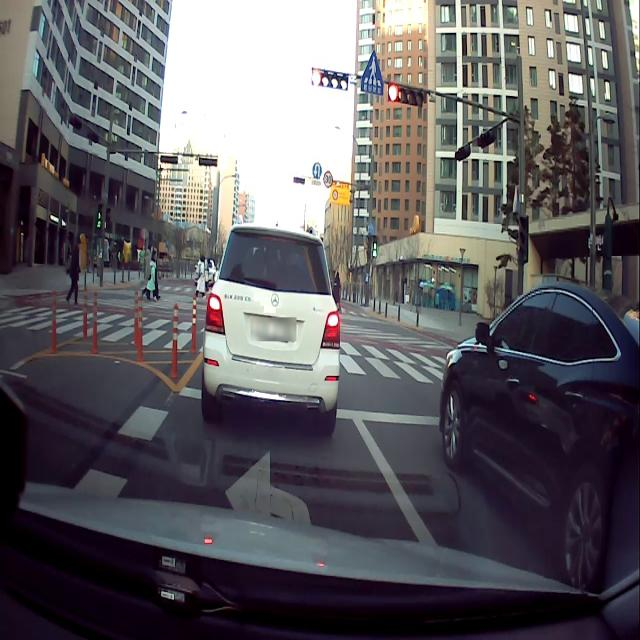Red Light: (310, 67, 322, 88), (388, 82, 398, 102)
